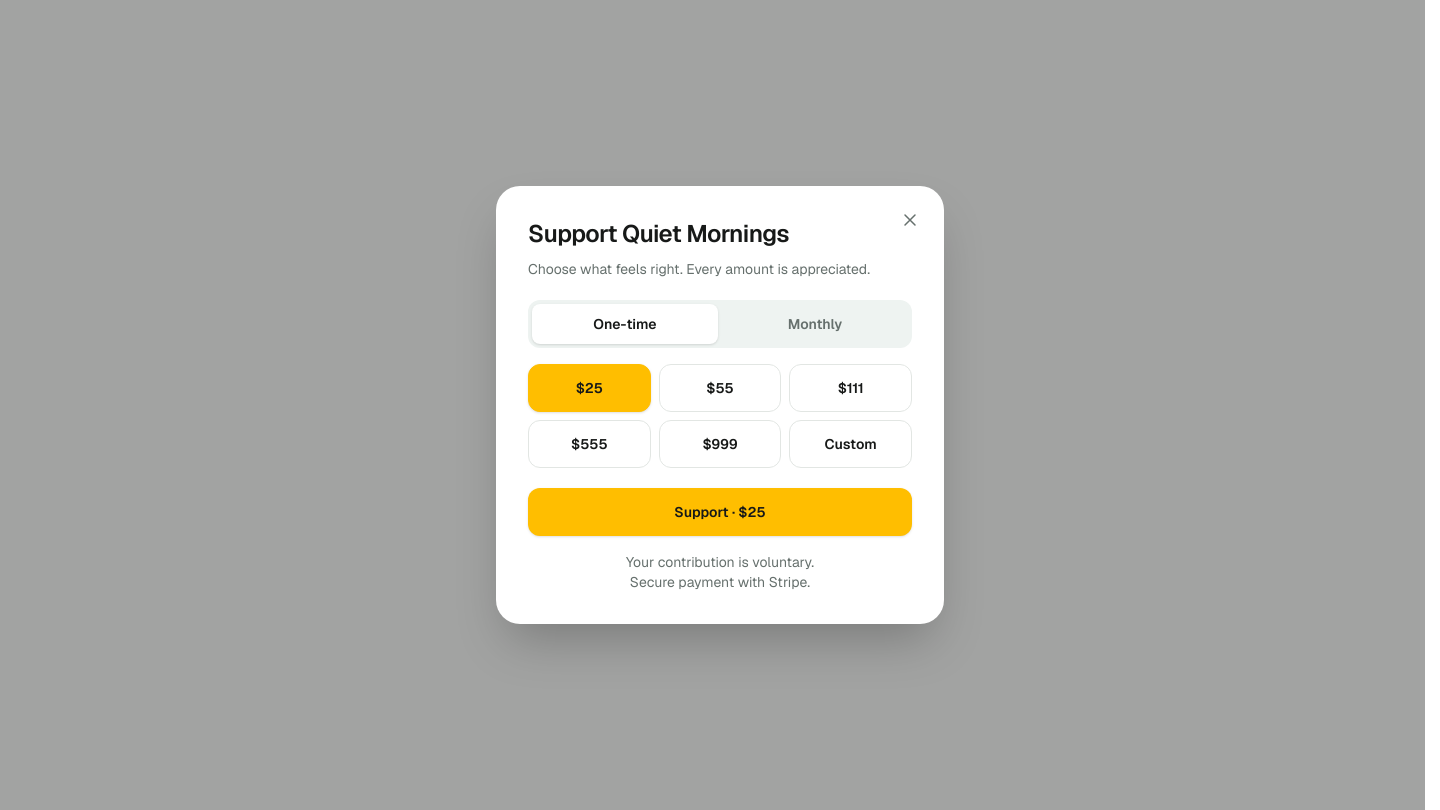
Test case: SupportModal: confirm step › asks guests for an email (name optional) and says it's test mode
Click the button "Support · $25" at {"x": 720, "y": 512}, box x1=528 y1=488 x2=912 y2=536
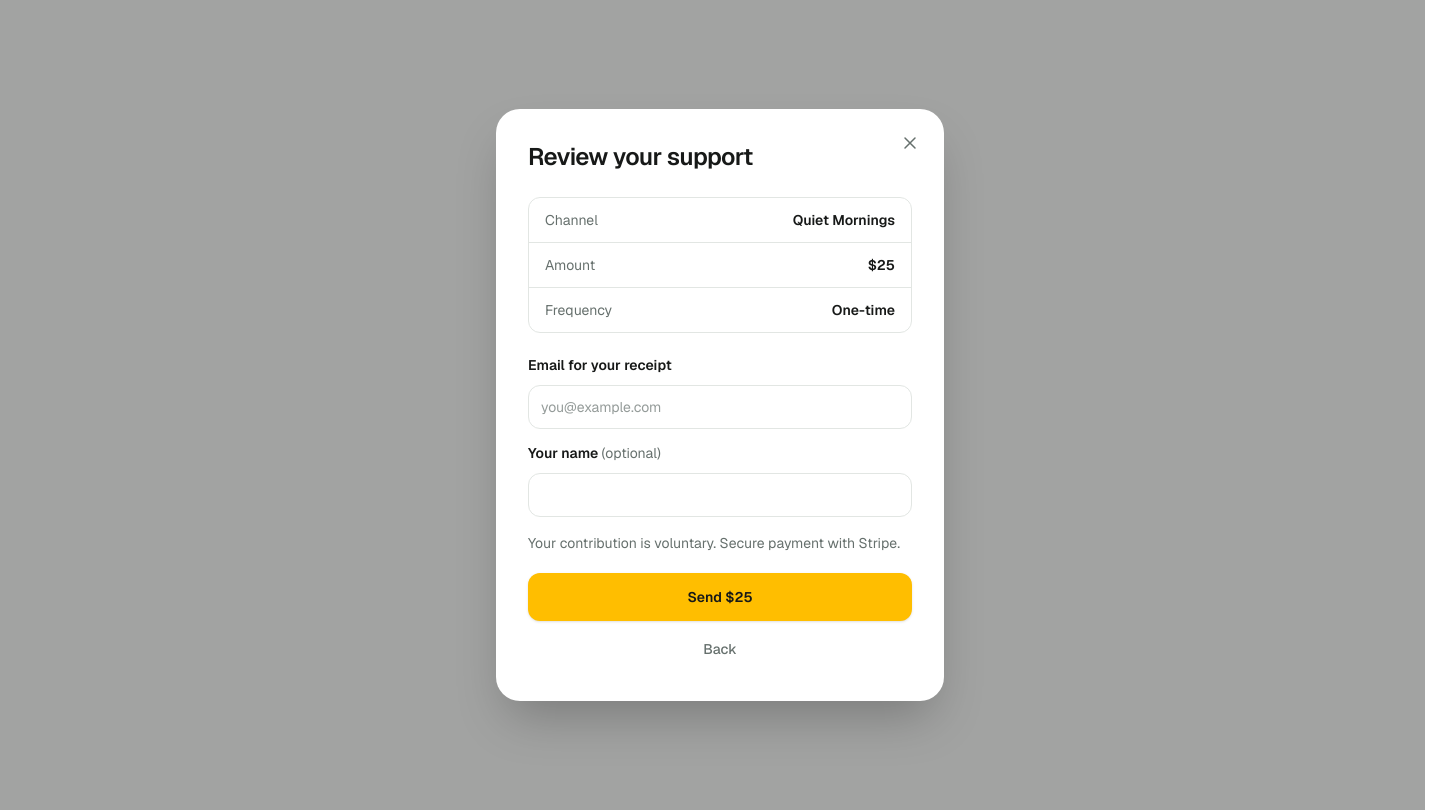
Result: the field labelled "Email for your receipt" is shown at x1=528 y1=385 x2=912 y2=429
Result: the field labelled "Your name (optional)" is shown at x1=528 y1=473 x2=912 y2=517
Result: the button "Send $25" is shown at x1=528 y1=573 x2=912 y2=621
